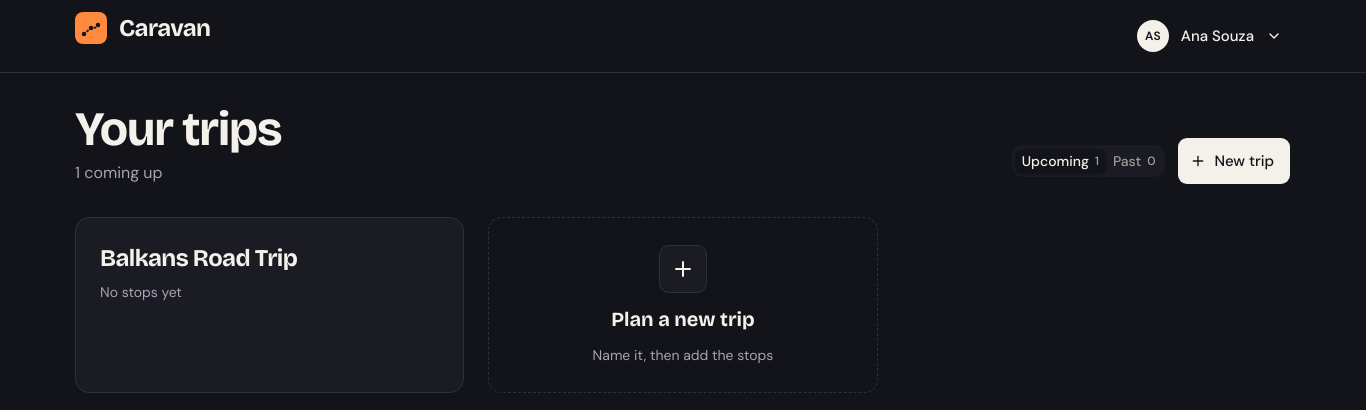
Test case: the trips screen › has no past trips yet
Click the tab "Past 0" at (1134, 161), box [1106,148,1162,174]
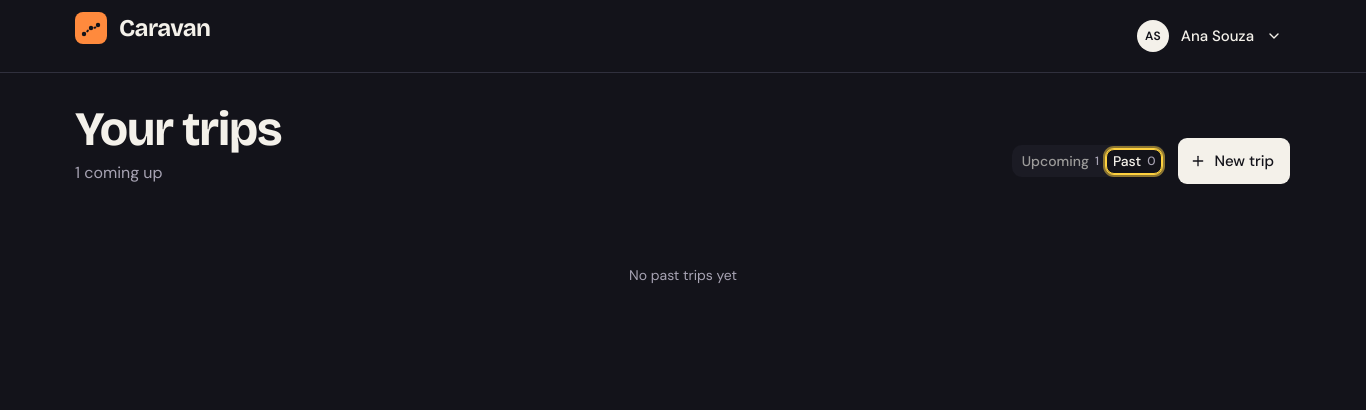
Expected: the panel reads "No past trips yet", [629,266,737,284]
